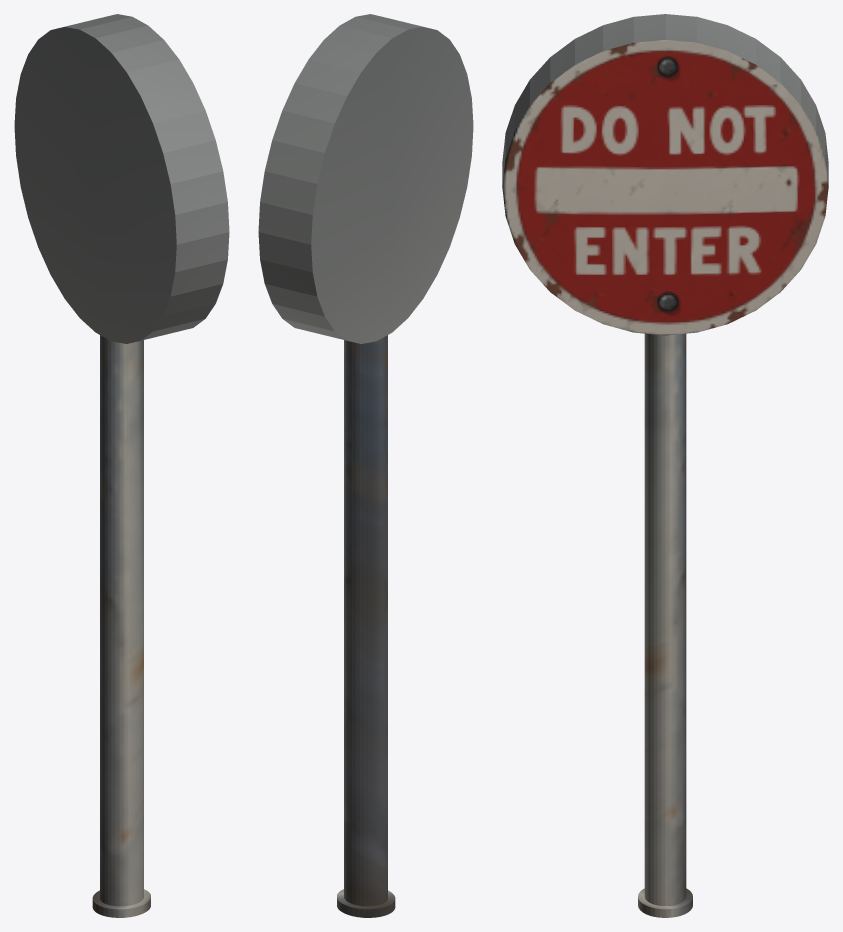
Rendered from do not enter tabelası.fbx.
The picture shows the model from 3 angles, left to right: view 1: azimuth 30°, elevation 25°; view 2: azimuth 150°, elevation 25°; view 3: azimuth 270°, elevation 25°; orthographic projection.
Visible parts, largest first — view 1: Circle; view 2: Circle; view 3: Circle.
Part boxes in pixels (left/top/right/bottom): Circle: left=14, top=14, right=229, bottom=917; Circle: left=258, top=14, right=473, bottom=917; Circle: left=502, top=14, right=828, bottom=917.
Bounding box in the file's own units: 17.45 × 277 × 93.08.
Materials: 1 (1 with a texture image).
